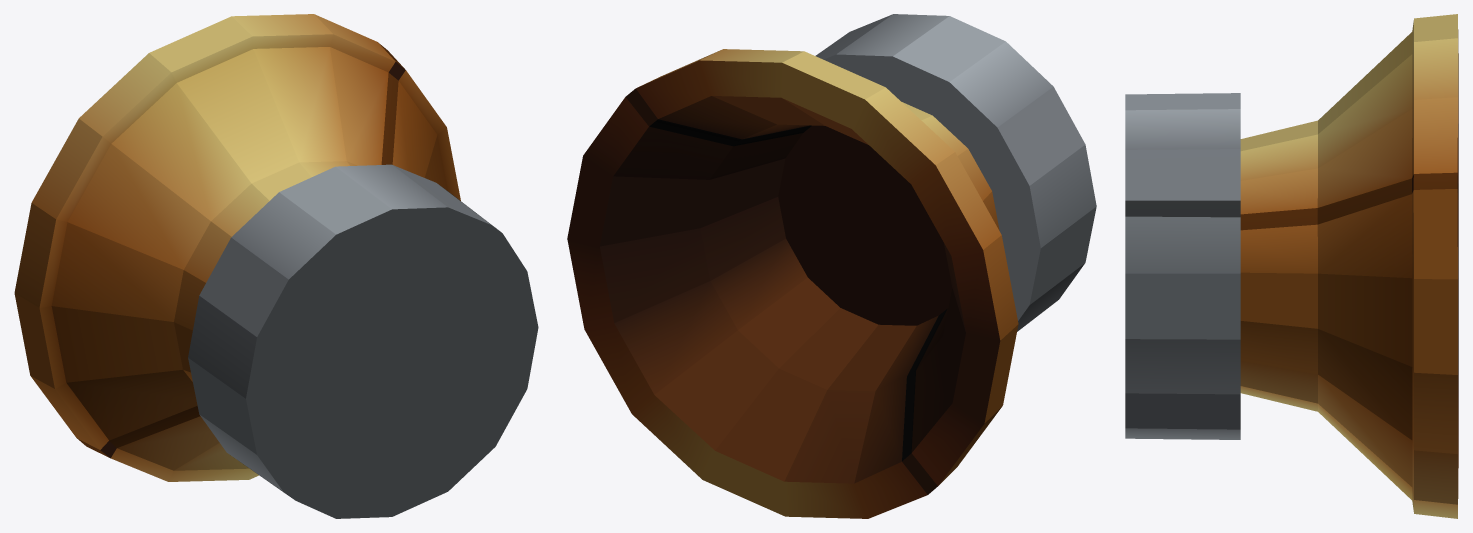
File: HerbertBaseVacuumEnd.fbx
3 renders of one model, left to right at view 1: azimuth 30°, elevation 25°; view 2: azimuth 150°, elevation 25°; view 3: azimuth 270°, elevation 25°, orthographic.
Parts seen in each view (by area): view 1: HerbertBaseVacuumEnd; view 2: HerbertBaseVacuumEnd; view 3: HerbertBaseVacuumEnd.
Part boxes in pixels (left/top/right/bottom): HerbertBaseVacuumEnd: left=14, top=14, right=538, bottom=518; HerbertBaseVacuumEnd: left=567, top=14, right=1096, bottom=518; HerbertBaseVacuumEnd: left=1125, top=14, right=1458, bottom=518.
Bounding box in the file's own units: 108 × 108 × 71.03.
